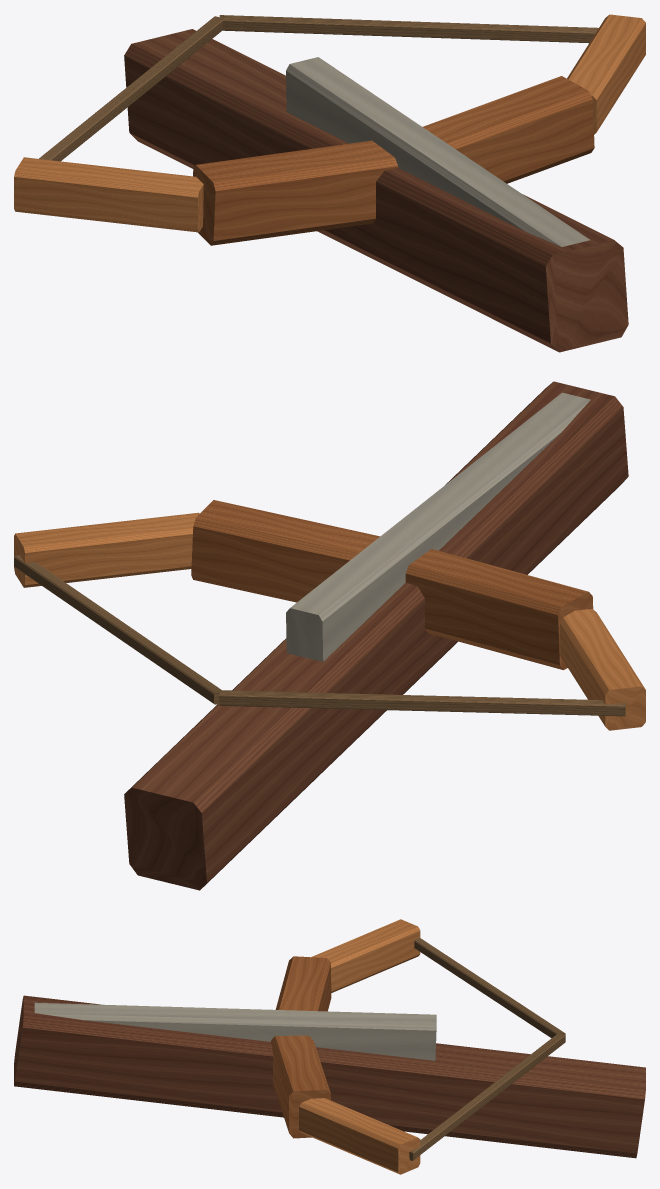
File: tower_launcher.glb
3 renders of one model, top to bottom at view 1: azimuth 30°, elevation 25°; view 2: azimuth 150°, elevation 25°; view 3: azimuth 270°, elevation 25°, orthographic. The views are drawn at different scales.
Parts seen in each view (by area): view 1: Launcher; view 2: Launcher; view 3: Launcher.
Boxes of the visible parts, x1,y1,x2,y2 form: Launcher: (14,14,645,352); Launcher: (14,381,645,890); Launcher: (14,919,645,1174).
Bounding box in the file's own units: 0.8132 × 0.2341 × 0.9546.
1 material, 1 textured.
